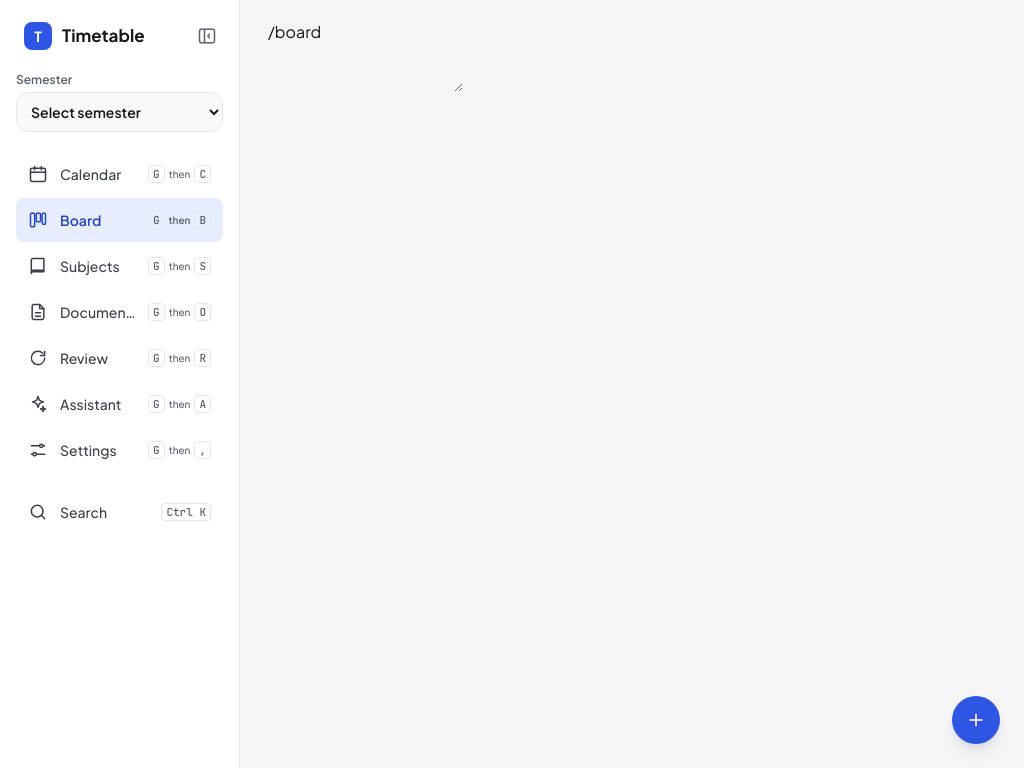
Test: SearchPalette › navigates for a note
The image size is (1024, 768).
Step 1. Type keys "/"
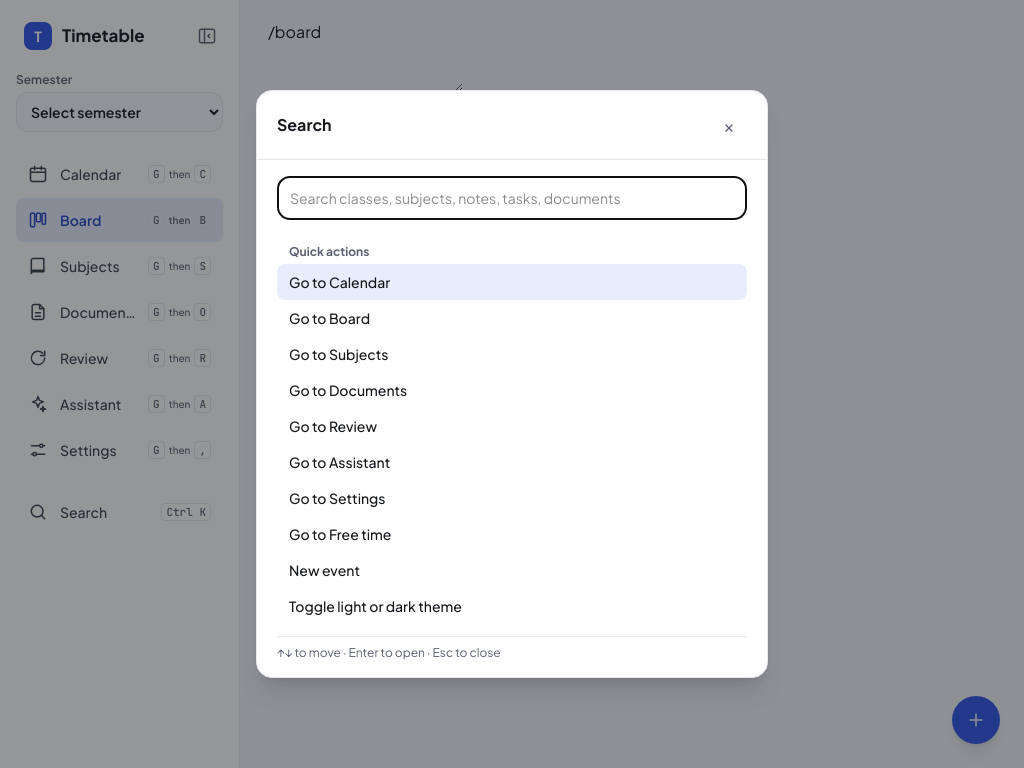
Step 2. Type "python" into the dropdown labelled "Search" → (512, 198), box [277,176,747,220]
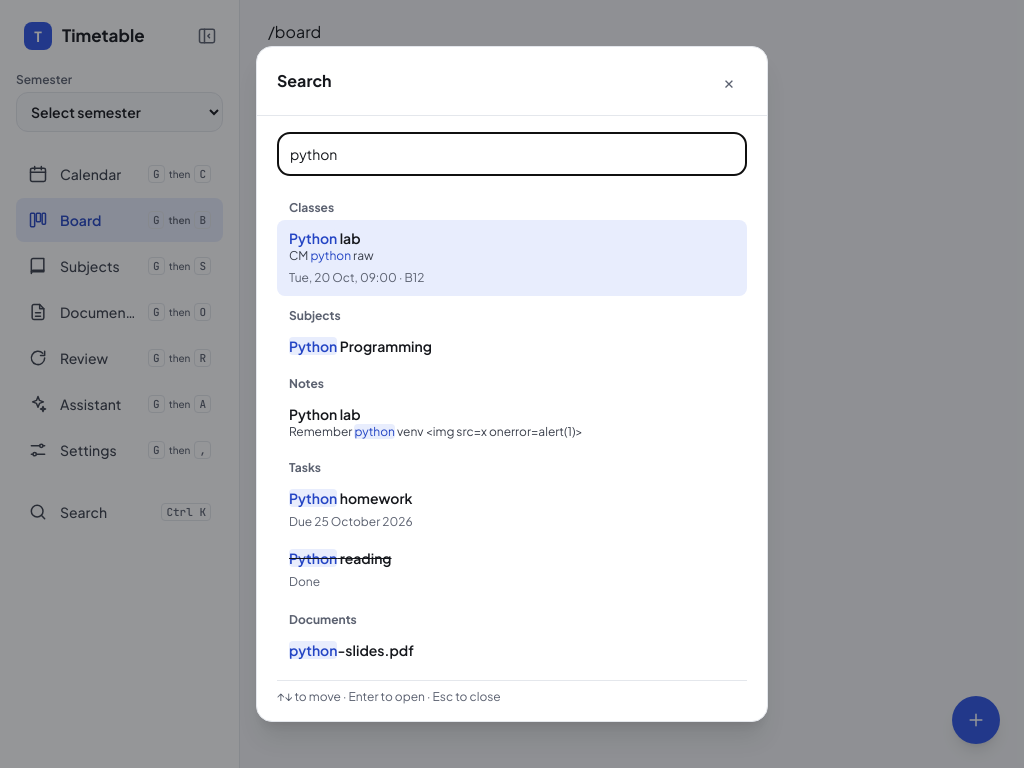
Step 3. Click the option "Python lab Remember python venv <img src=x onerror=alert(1)>" → (436, 422), box [289,405,583,439]
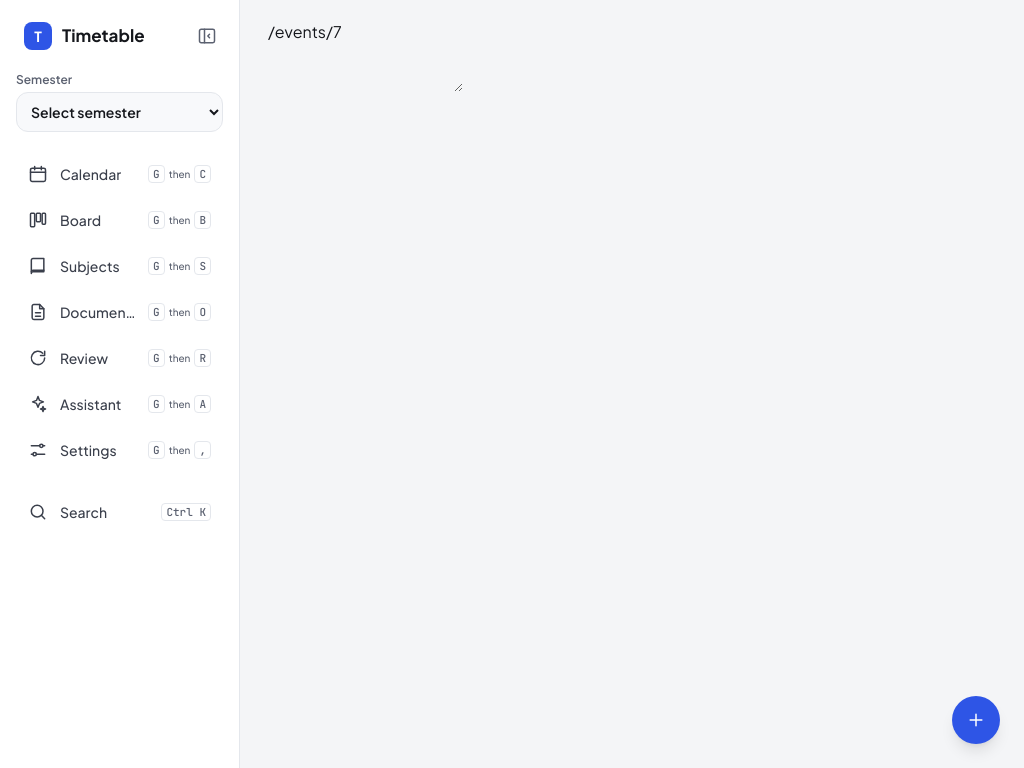
Expected: the text with test id "path" reads "/events/7", [268,21,342,42]
